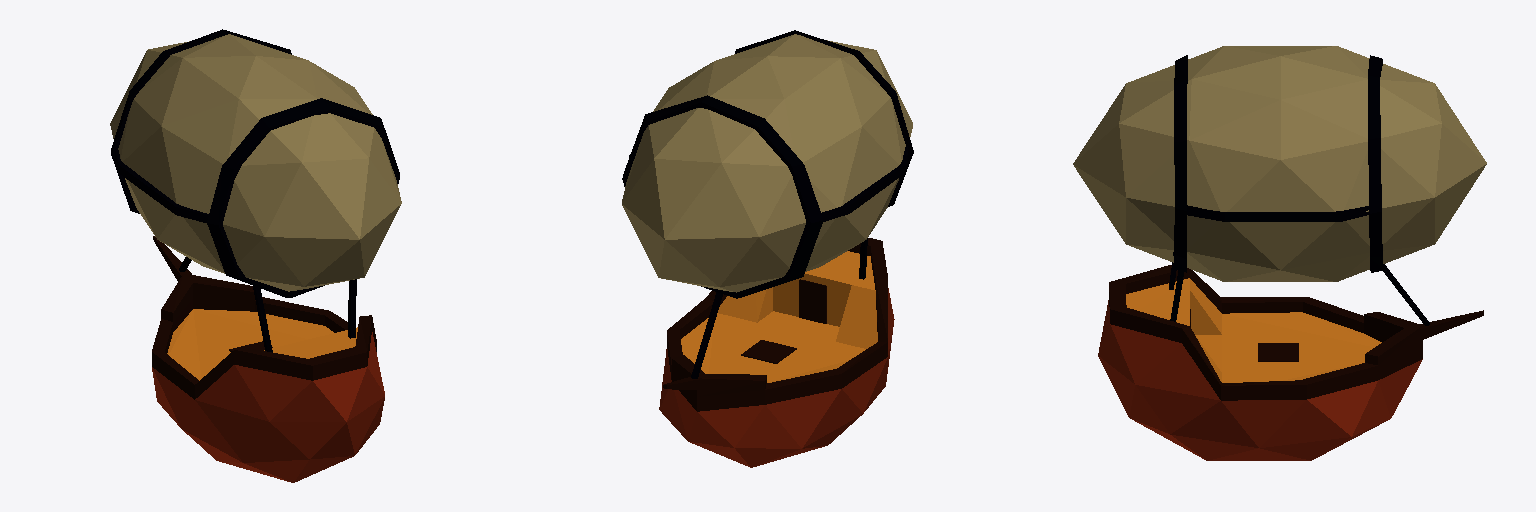
The model's file is Airship.obj.
3 views of the same model, side by side, from view 1: azimuth 30°, elevation 25°; view 2: azimuth 150°, elevation 25°; view 3: azimuth 270°, elevation 25° (orthographic).
Visible parts, largest first — view 1: Baloon_Icosphere.001, Boat_Icosphere, Circle, Cube; view 2: Baloon_Icosphere.001, Boat_Icosphere, Circle, Cube; view 3: Baloon_Icosphere.001, Boat_Icosphere, Circle, Cube.
Part boxes in pixels (x1,y1,x2,y2): Baloon_Icosphere.001: (110, 34, 401, 291); Boat_Icosphere: (152, 236, 384, 482); Circle: (111, 29, 399, 297); Cube: (179, 257, 356, 352); Baloon_Icosphere.001: (622, 34, 912, 292); Boat_Icosphere: (659, 238, 894, 467); Circle: (622, 30, 913, 298); Cube: (691, 238, 867, 378); Baloon_Icosphere.001: (1073, 46, 1486, 281); Boat_Icosphere: (1098, 265, 1483, 460); Circle: (1173, 55, 1382, 272); Cube: (1169, 262, 1429, 325).
Bounding box in the file's own units: 4.47 × 7.82 × 7.35.